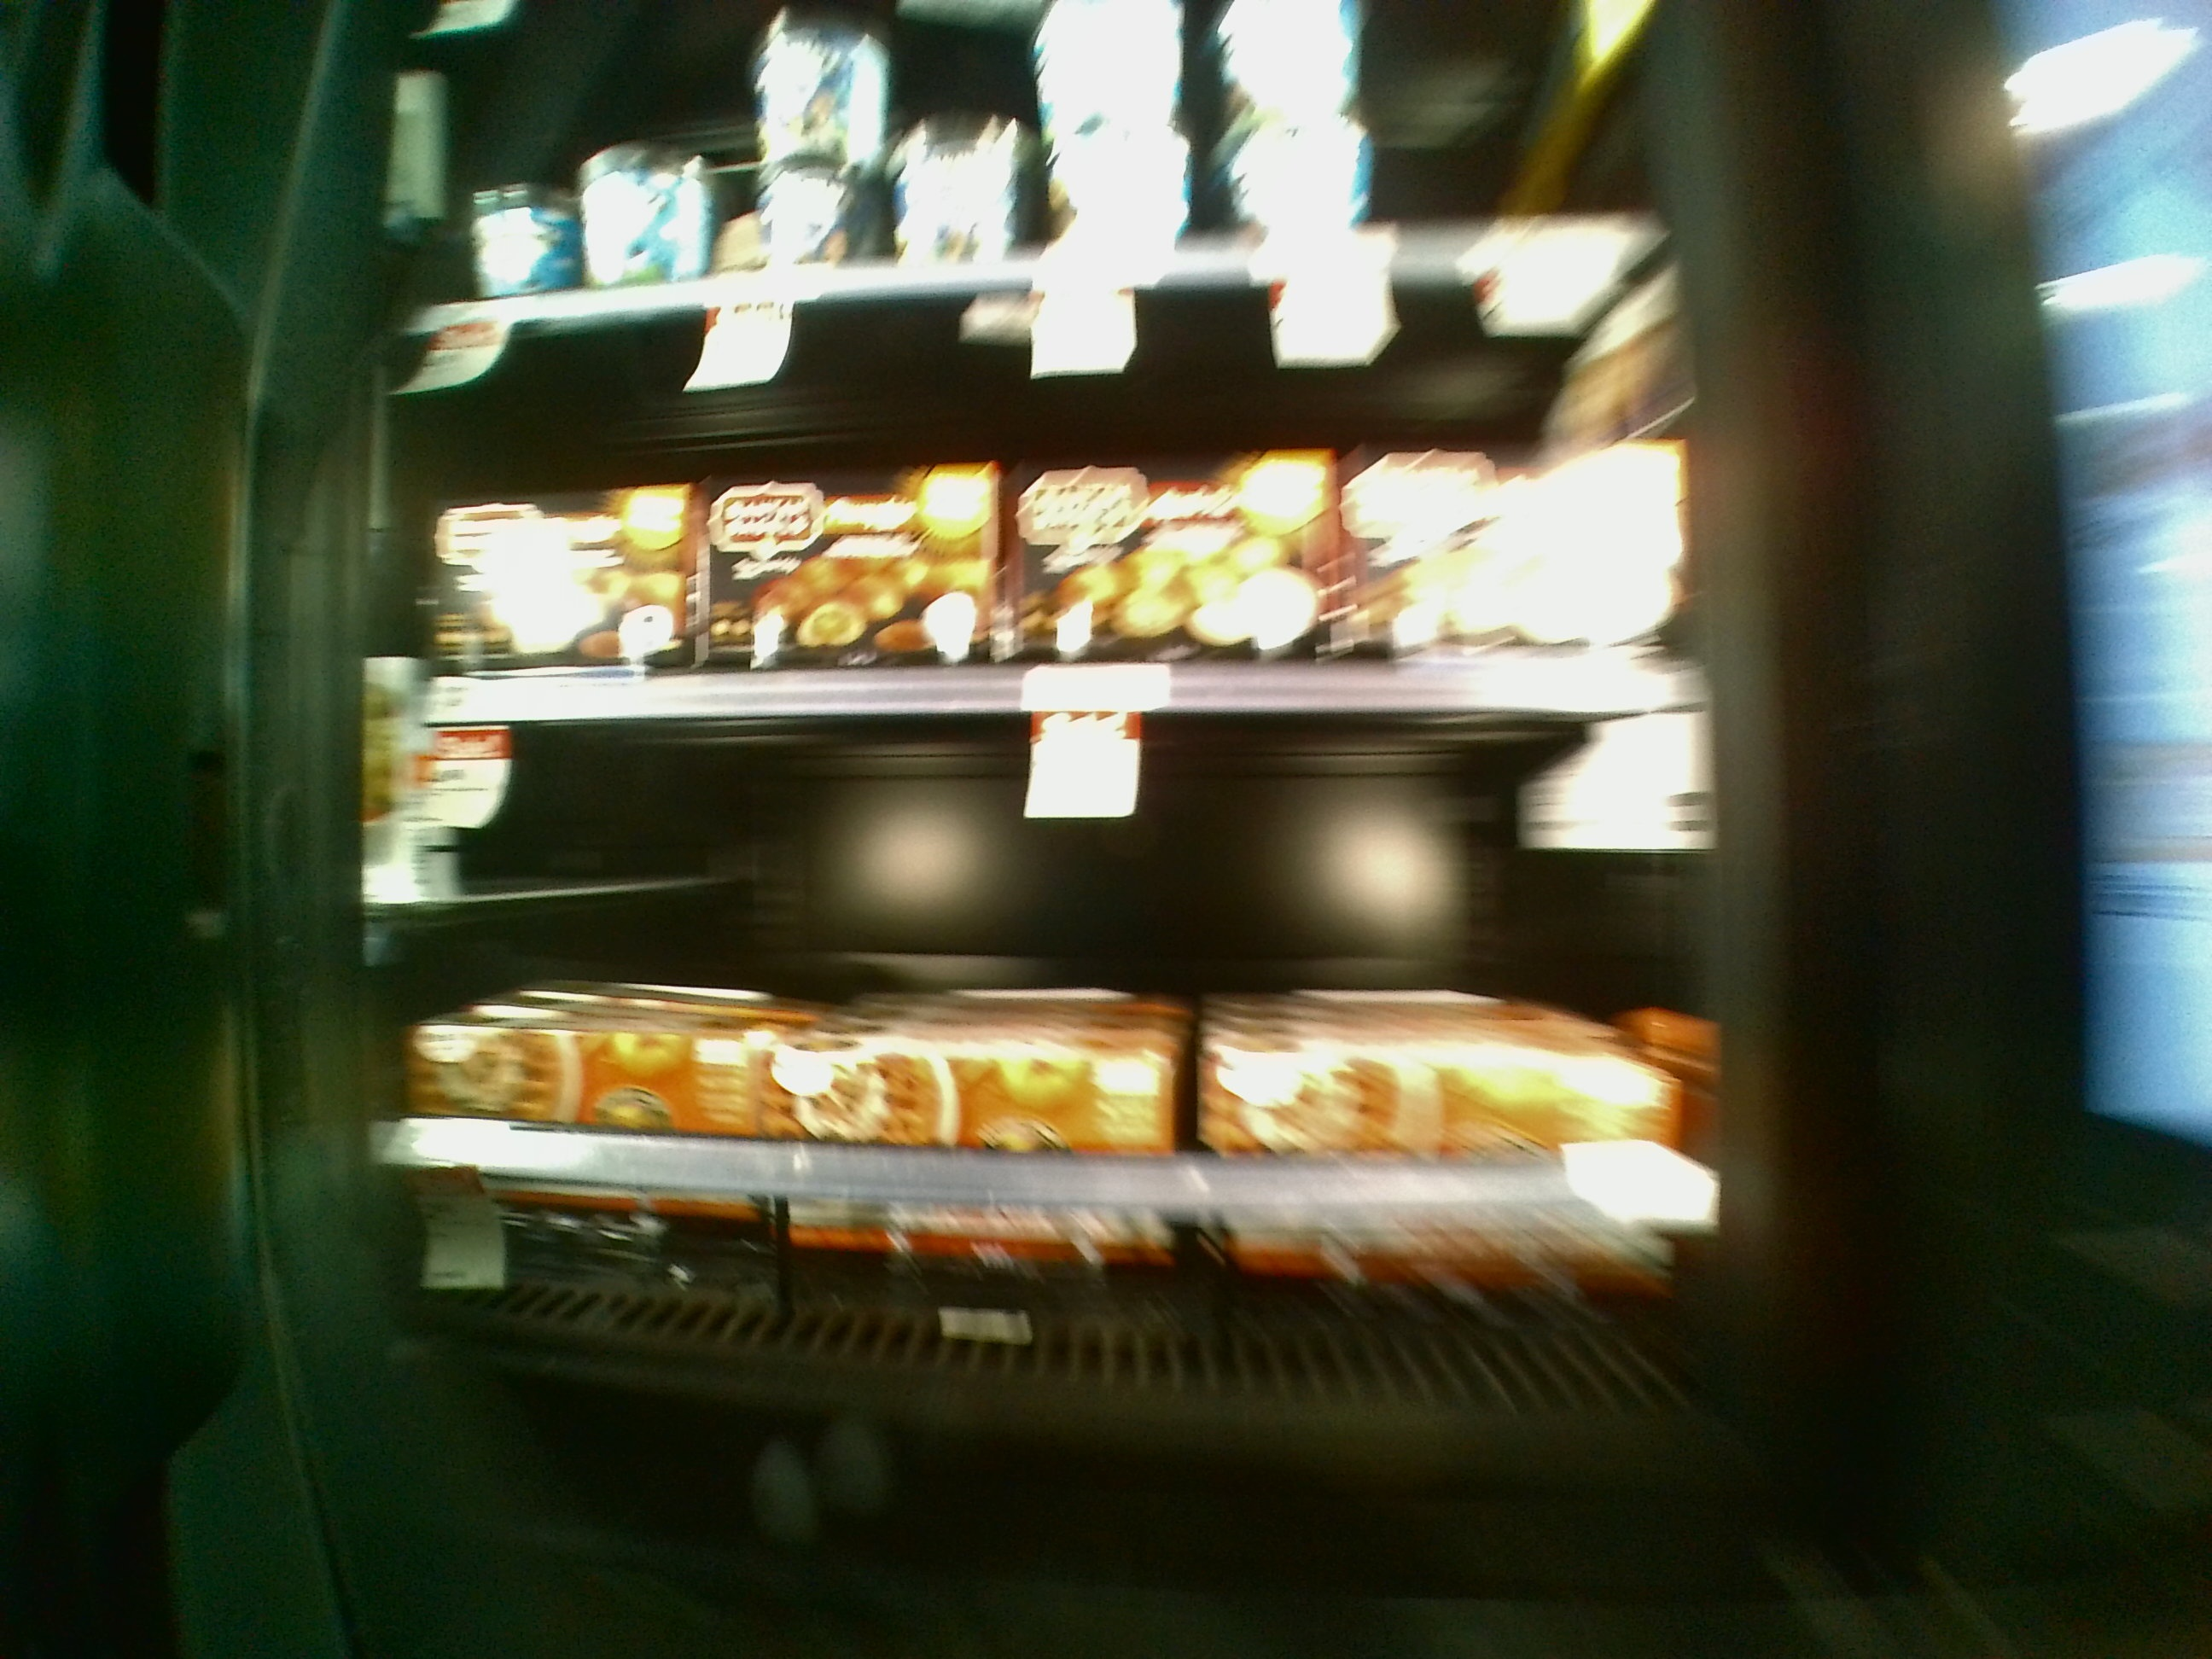shelf: (364, 699, 1737, 1422), (387, 321, 1707, 723)
